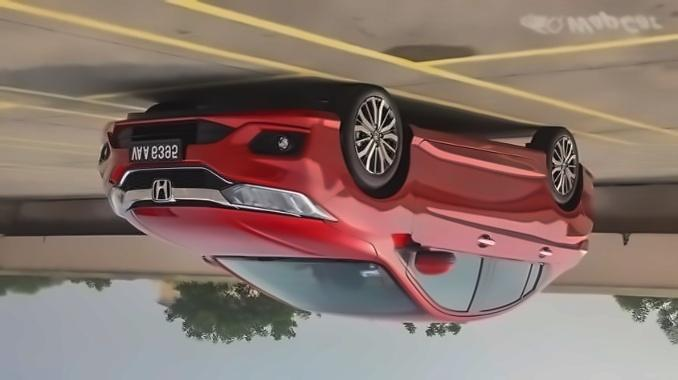Car hood: (110, 201, 383, 264)
Driver-s door - -F-R-: (405, 142, 493, 321)
Fender - -F-R-: (319, 127, 421, 263)
Fender - -R-R-: (543, 149, 588, 256)
Front bumper: (92, 107, 351, 189)
Headlight - -L-: (100, 182, 140, 222)
Headlight - -R-: (220, 179, 346, 226)
Passenger-s door - -R-R-: (492, 153, 559, 319)
Rear bumper: (573, 158, 602, 210)
Rear light - -R-: (573, 231, 594, 267)
Side bumper - -R-: (406, 121, 554, 169)
Side mirror - -R-: (402, 238, 459, 282)
